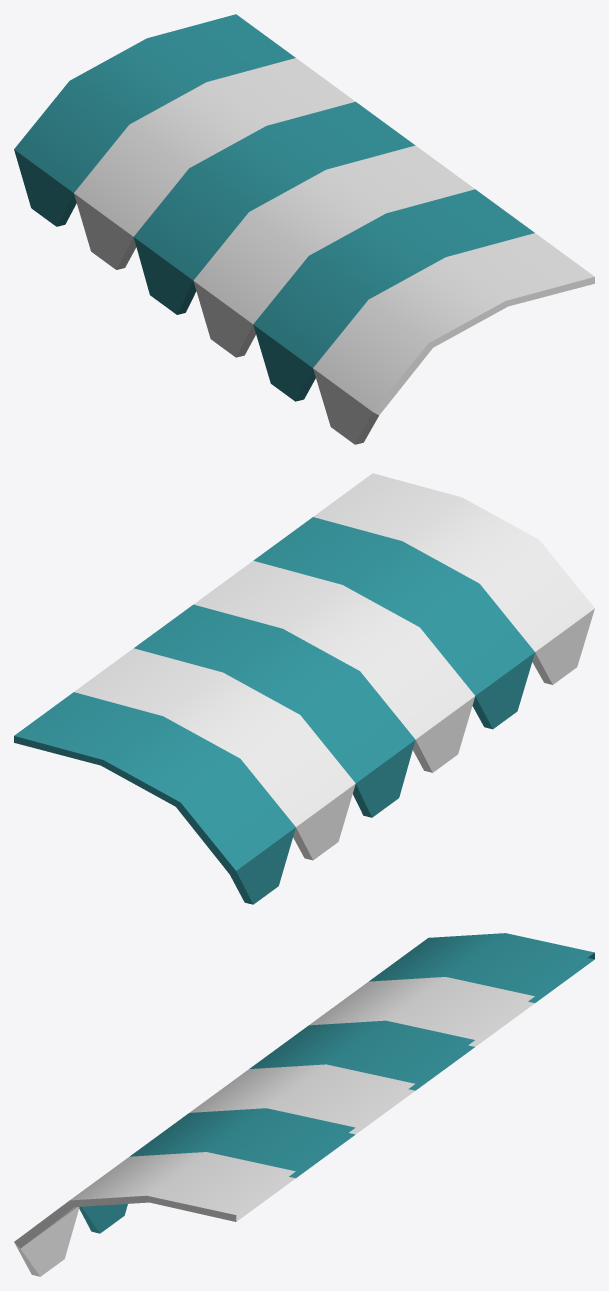
The model's file is Awning_3_D.fbx.
The picture shows the model from 3 angles, top to bottom: view 1: azimuth 30°, elevation 25°; view 2: azimuth 150°, elevation 25°; view 3: azimuth 330°, elevation 25°; orthographic projection.
Visible parts, largest first — view 1: Awning_3_D; view 2: Awning_3_D; view 3: Awning_3_D.
Boxes of the visible parts, x1=… form: Awning_3_D: x1=14, y1=14, x2=594, y2=444; Awning_3_D: x1=14, y1=473, x2=594, y2=904; Awning_3_D: x1=14, y1=933, x2=594, y2=1276.
Bounding box in the file's own units: 99.94 × 54.72 × 280.
